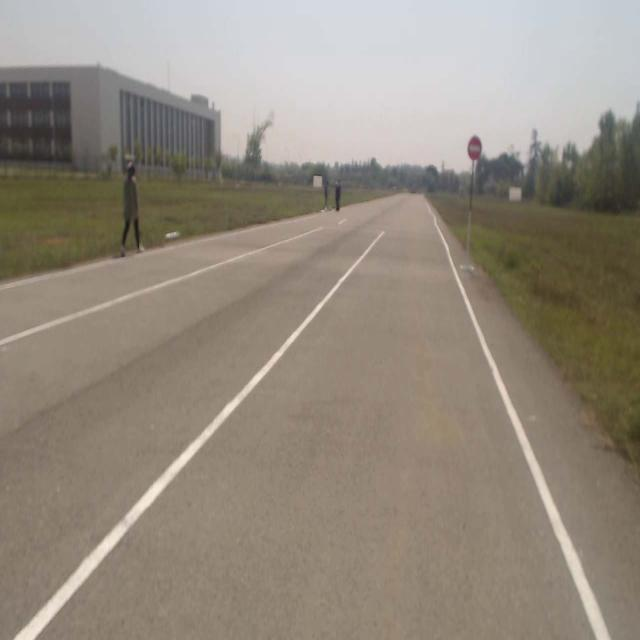girisyok: (468, 136, 482, 161)
